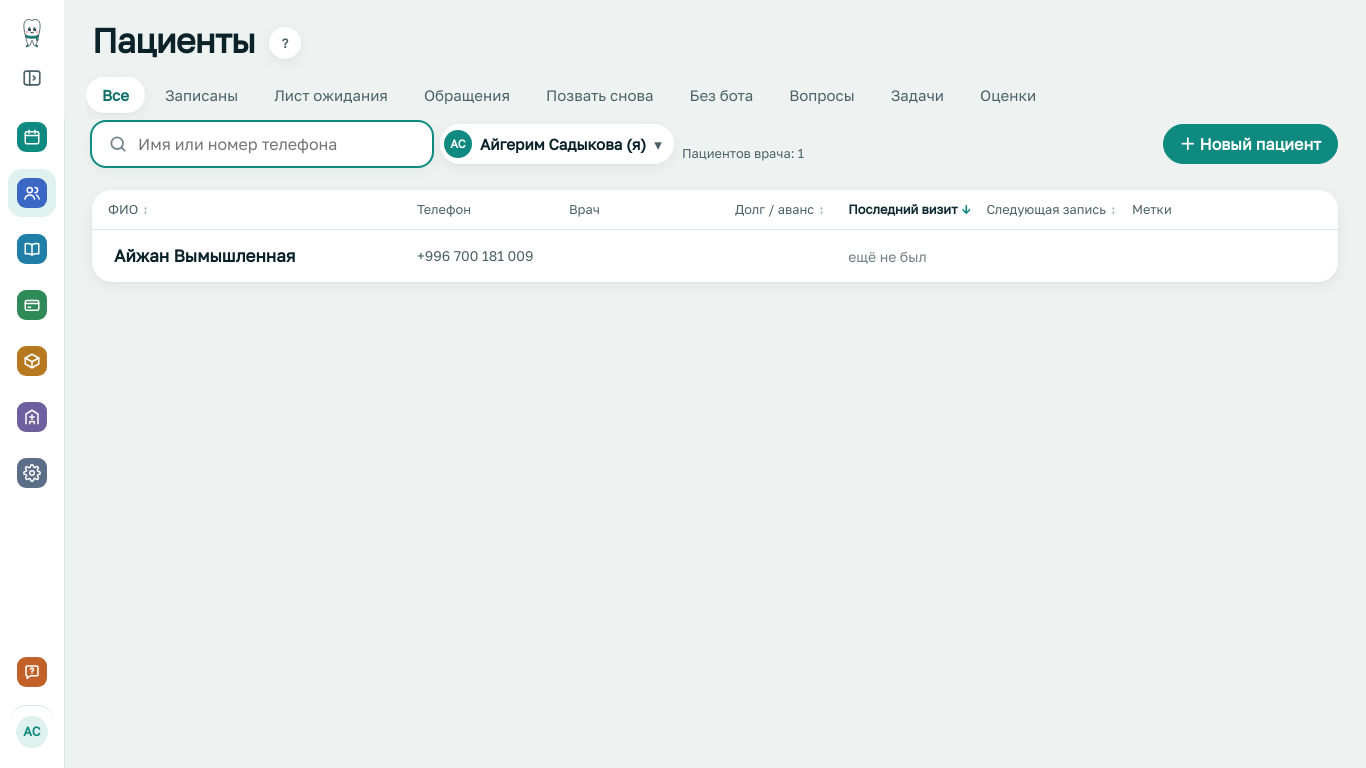
Test case: ассистент только смотрит: подписанный договор без кнопок отметки
Click the button "Айжан Вымышленная".
click(205, 256)  # box [114, 243, 296, 269]
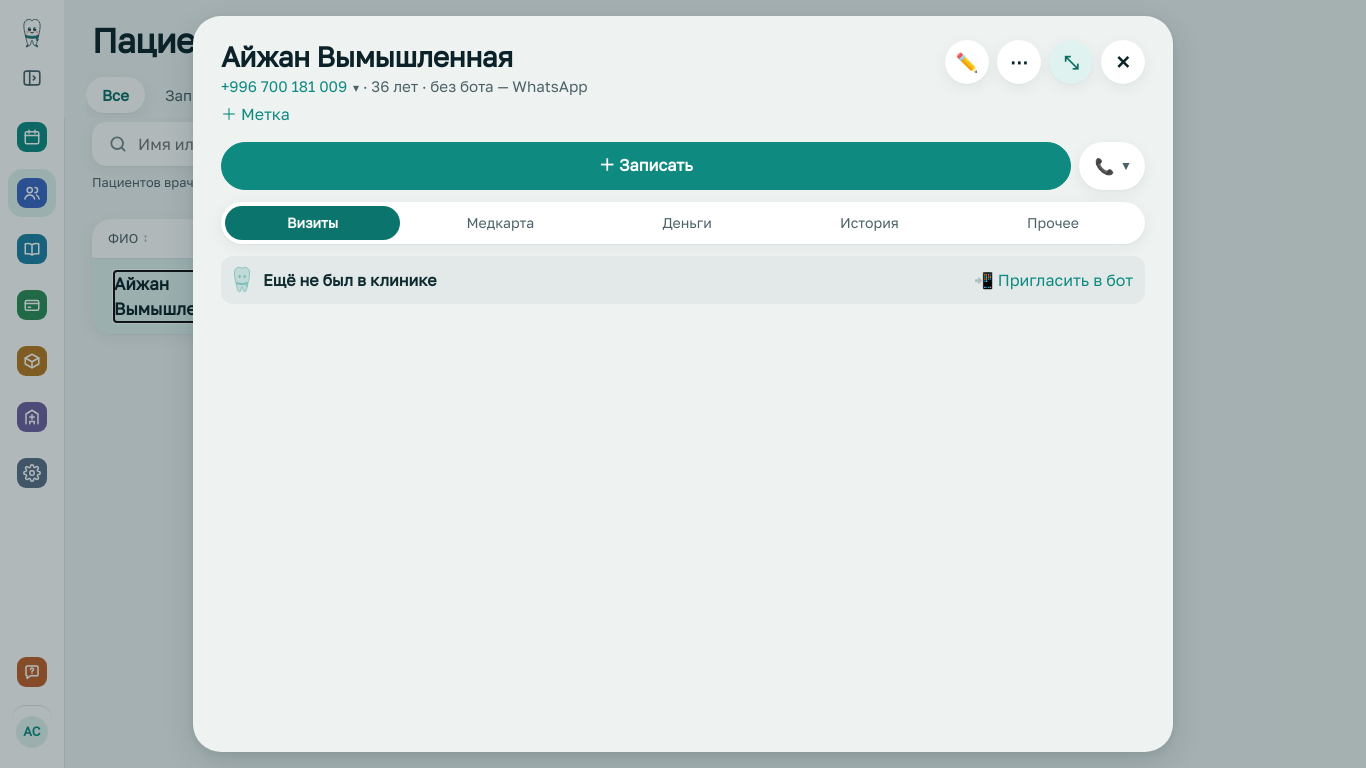
Click the tab "Прочее".
click(1053, 223)  # box [965, 206, 1141, 240]
(page scrolled)
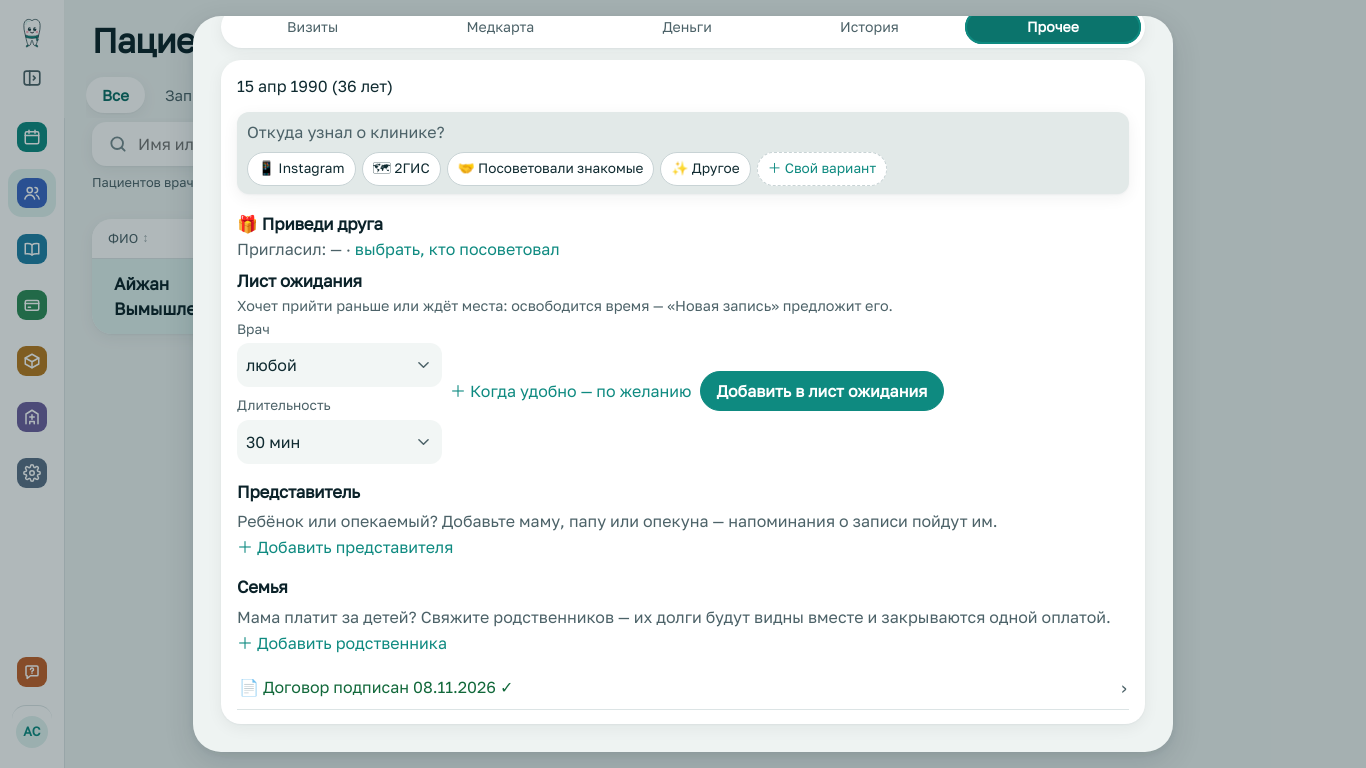
Click the button "📄 Договор подписан 08.11.2026 ✓ ›".
click(326, 687)  # box [237, 665, 1129, 709]
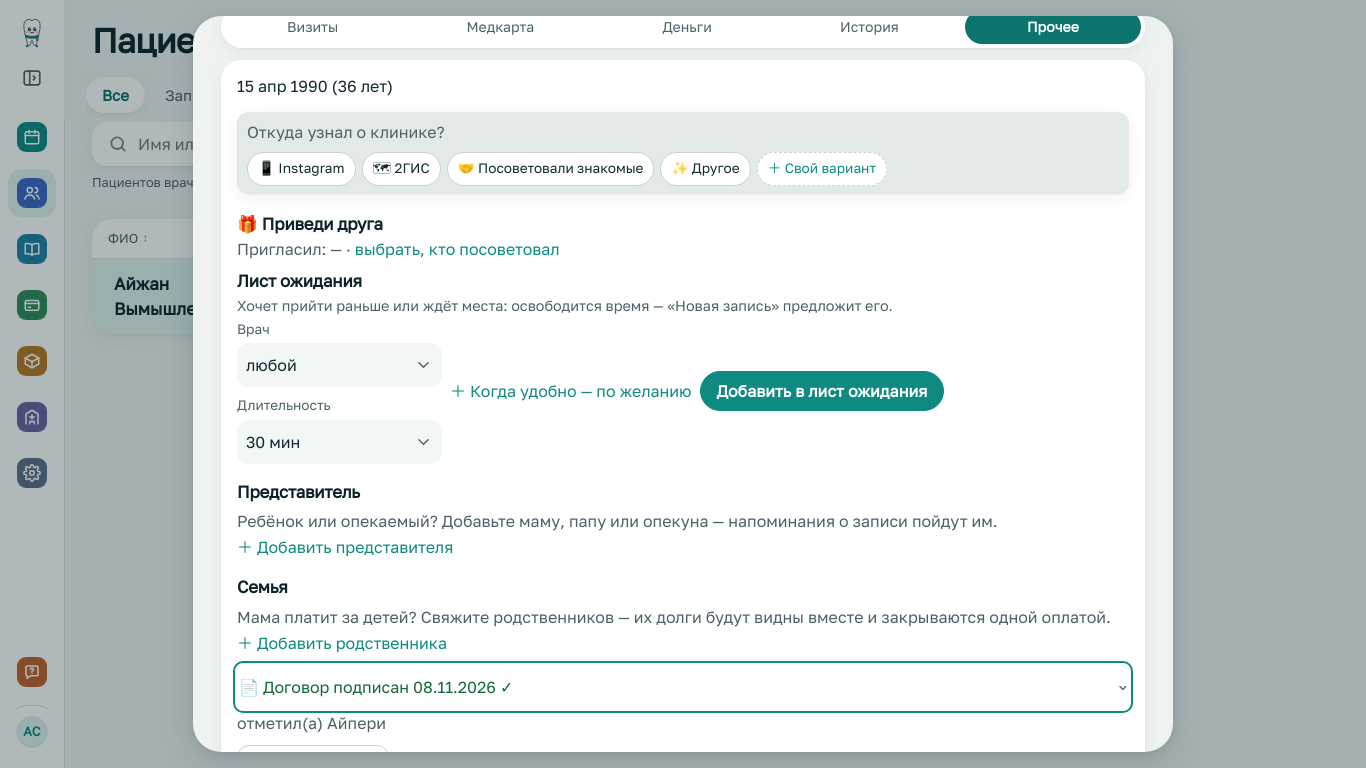
expect the text "отметил(а) Айпери" is shown: met, box [237, 713, 386, 733]
